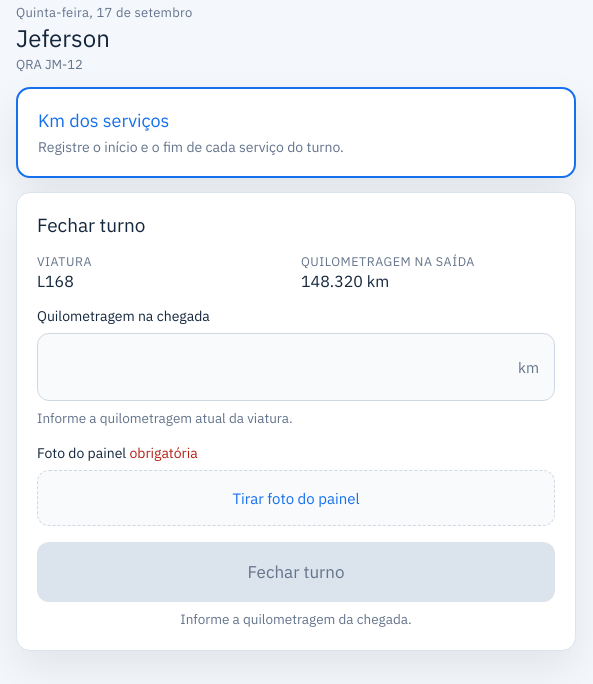
Test case: com turno aberto, fechar exige a foto do odometro
This screenshot has width=593, height=684.
In the field labelled "Quilometragem na chegada": [296, 367] box [37,333,555,401], type "148502"
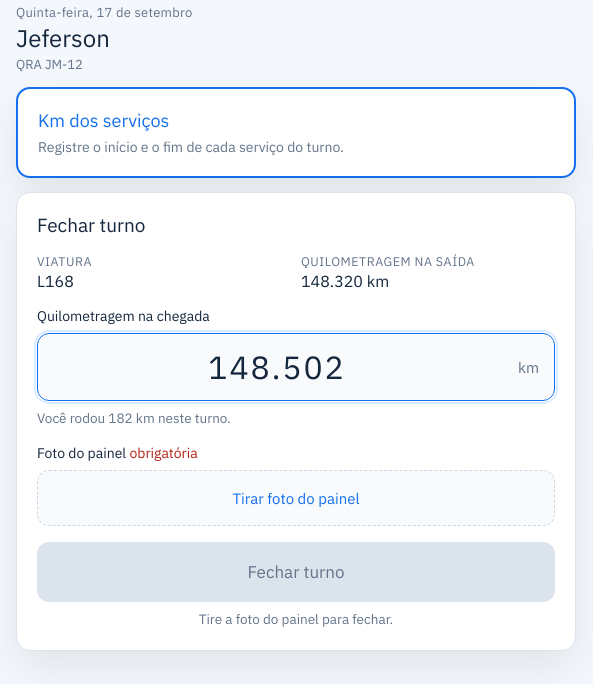
Expected: the button "Fechar turno" is disabled, [37,542,555,602]
Now the text "Você rodou 182 km neste turno." is shown, box [37,409,231,427]
